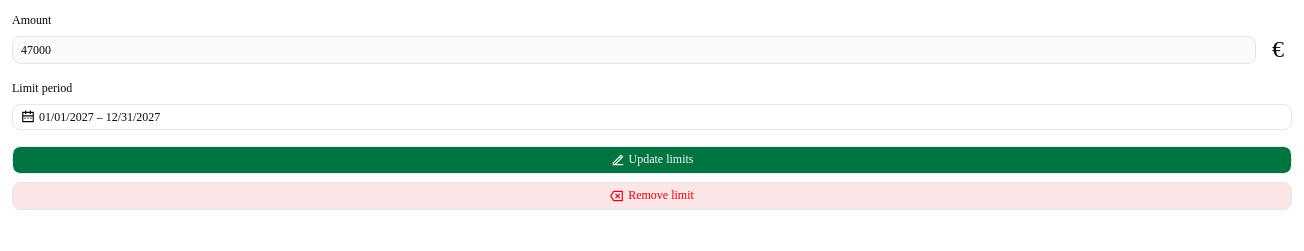
Test: SetLimitForm › should surface an error when clearing fails
Click the button "Remove limit" at (652, 196), box [12, 182, 1292, 210]
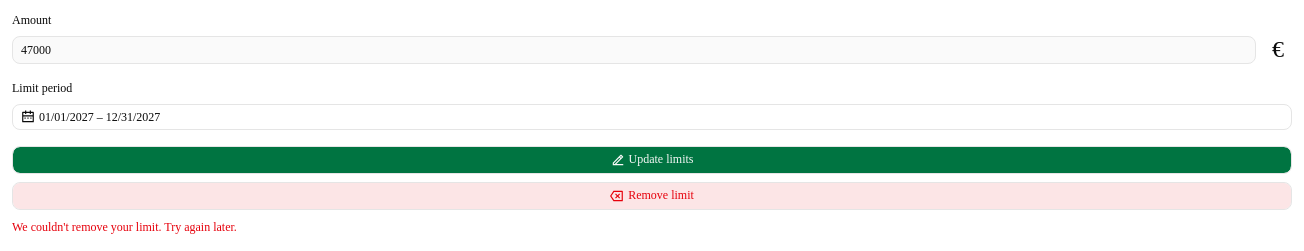
Now the text "We couldn't remove your limit. Try again later." is shown, box [12, 220, 237, 234]
